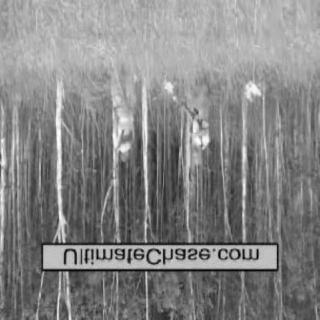Fire: (159, 70, 181, 110), (239, 78, 265, 106), (131, 73, 141, 90)
other: (113, 114, 129, 128)
